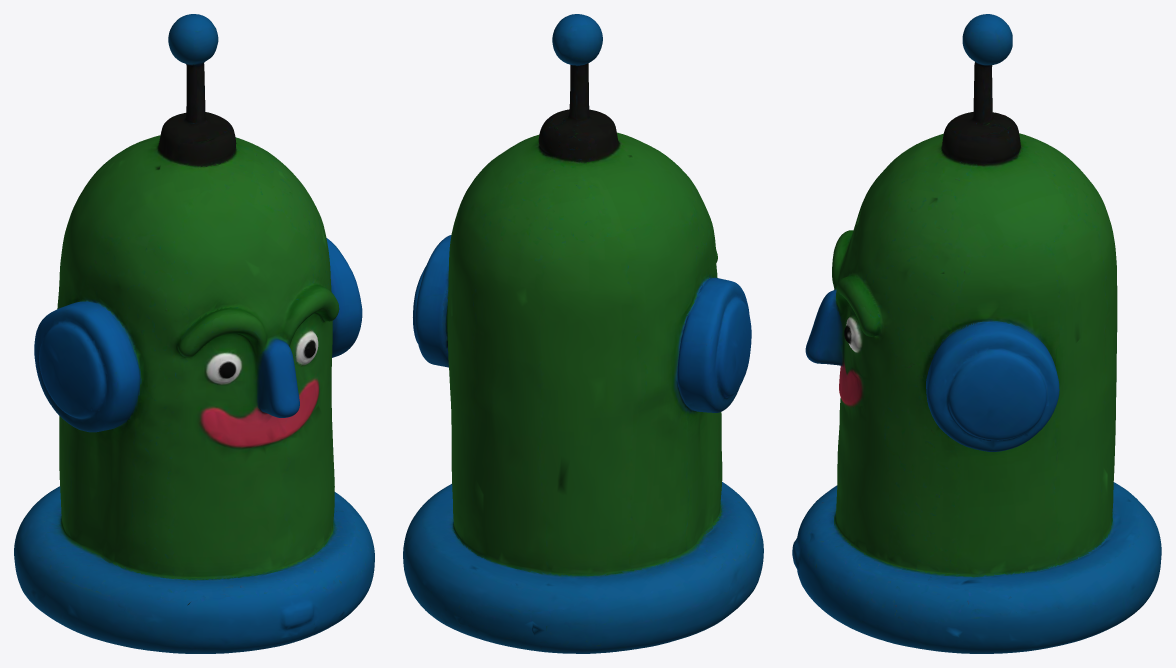
The model's file is bolt.glb.
The picture shows the model from 3 angles, left to right: view 1: azimuth 30°, elevation 25°; view 2: azimuth 150°, elevation 25°; view 3: azimuth 270°, elevation 25°; orthographic projection.
Visible parts, largest first — view 1: geometry_0; view 2: geometry_0; view 3: geometry_0.
Part boxes in pixels (<box>): geometry_0: <box>14,14,374,653</box>; geometry_0: <box>403,14,763,653</box>; geometry_0: <box>792,14,1161,653</box>.
Size of the model in its own units: 0.5691 by 0.9999 by 0.5843.
Materials: 1 (1 with a texture image).
